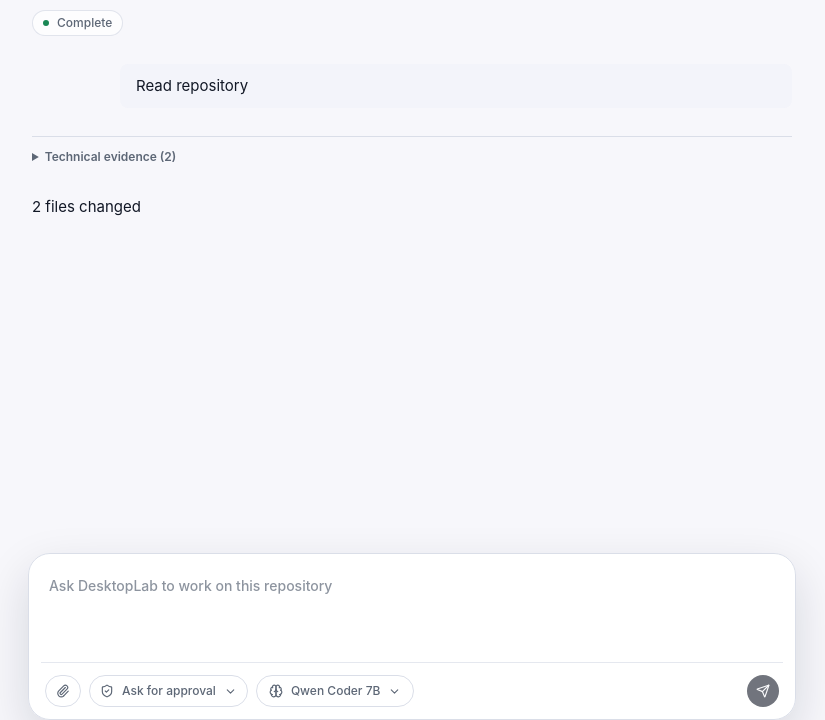
composer model control shows the installed model even when it is the only choice
The width and height of the screenshot is (825, 720).
Click the button with aria-label "Selected model Qwen Coder 7B" at (335, 691), box [256, 675, 414, 707]
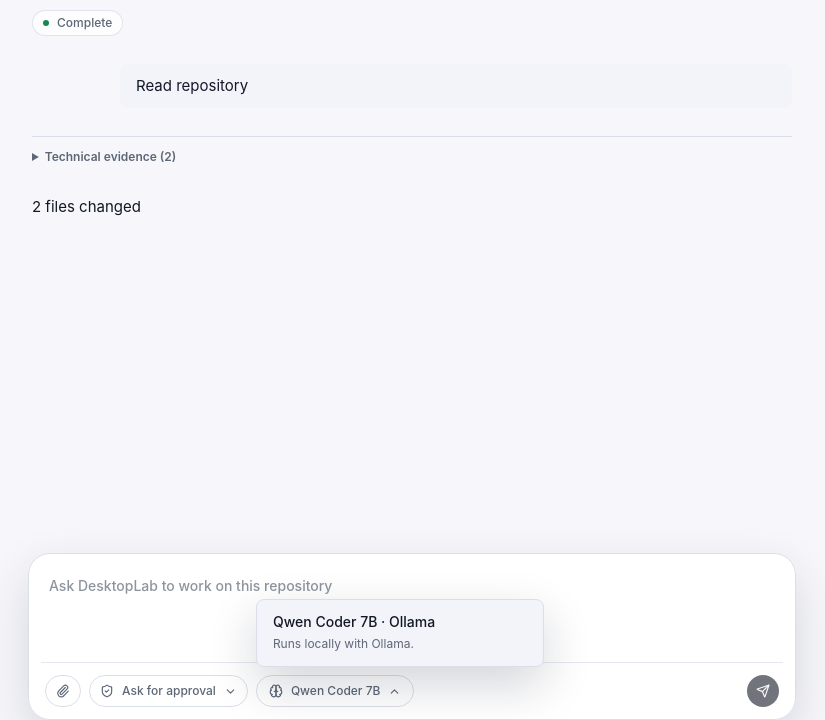
expect the menu item "Qwen Coder 7B · Ollama" is checked: met, box [261, 604, 539, 662]
